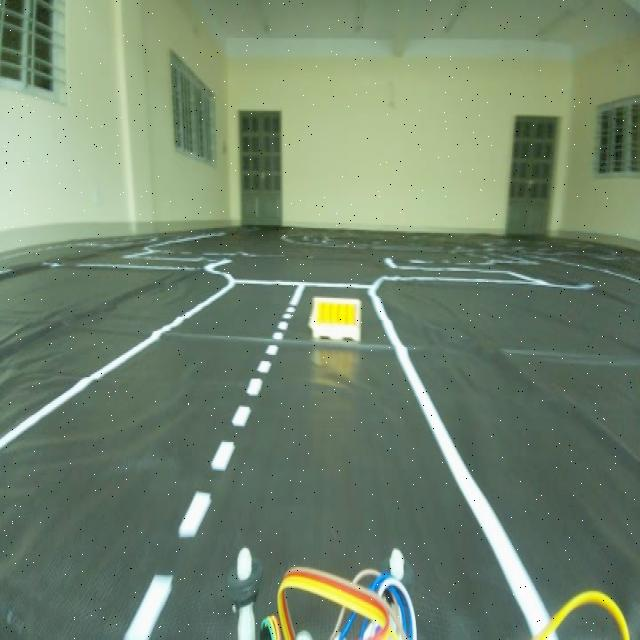roadblock: (307, 287, 365, 358)
